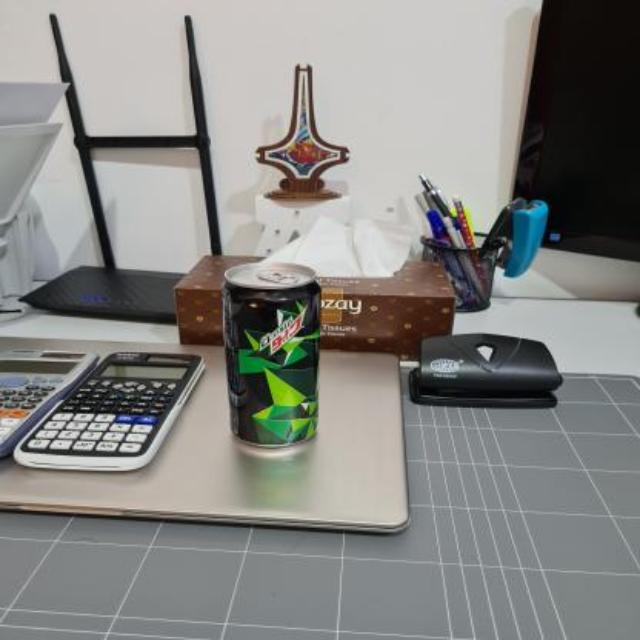cardboard paper: (263, 215, 408, 277)
metal: (222, 263, 317, 455)
